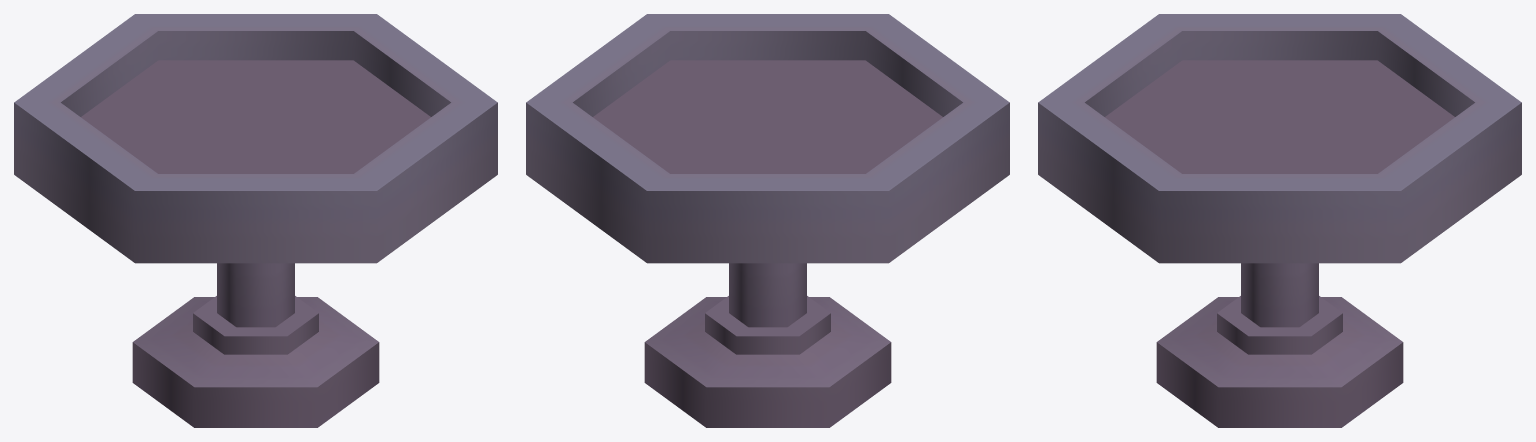
Rendered from FoodProp_1_H.fbx.
3 views of the same model, side by side, from view 1: azimuth 30°, elevation 25°; view 2: azimuth 150°, elevation 25°; view 3: azimuth 270°, elevation 25° (orthographic).
Parts seen in each view (by area): view 1: FoodProp_1_H; view 2: FoodProp_1_H; view 3: FoodProp_1_H.
Boxes of the visible parts, x1,y1,x2,y2 form: FoodProp_1_H: [14, 14, 497, 427]; FoodProp_1_H: [526, 14, 1009, 427]; FoodProp_1_H: [1038, 14, 1521, 427].
Size of the model in its own units: 49.95 by 36.88 by 57.67.
